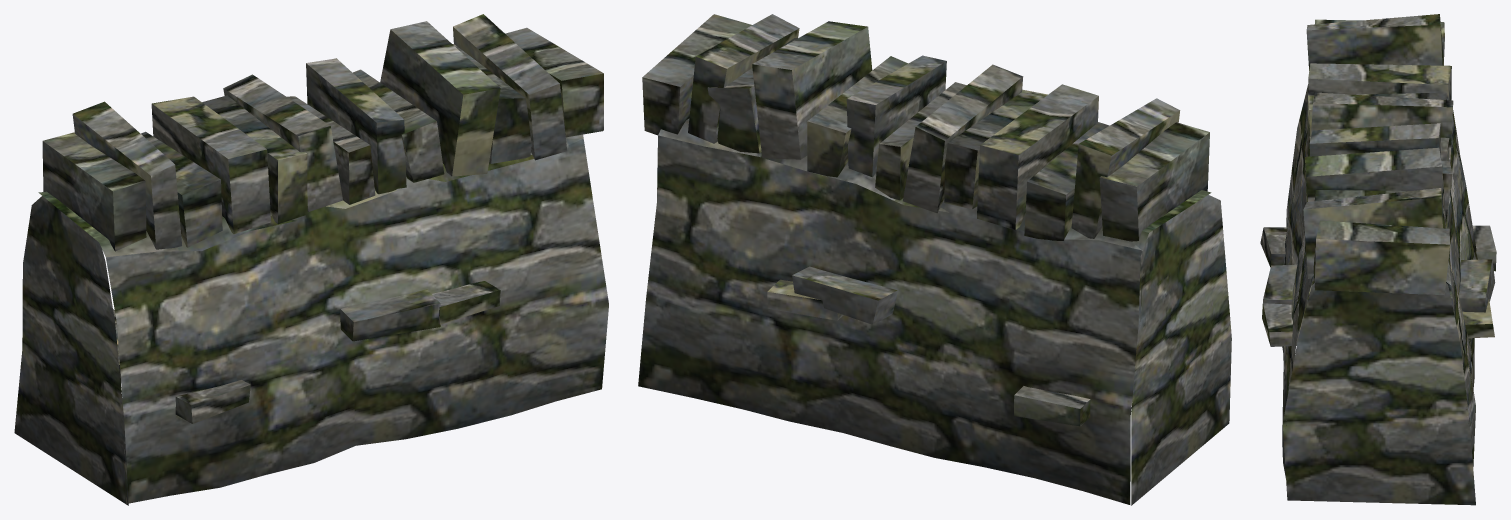
File: wall_drystone_straight_b.glb
3 views of the same model, side by side, from view 1: azimuth 30°, elevation 25°; view 2: azimuth 150°, elevation 25°; view 3: azimuth 270°, elevation 25° (orthographic). The views are drawn at different scales.
Parts seen in each view (by area): view 1: wall_drystone_straight_b; view 2: wall_drystone_straight_b; view 3: wall_drystone_straight_b.
Part boxes in pixels (x1,y1,x2,y2): wall_drystone_straight_b: (14, 14, 608, 505); wall_drystone_straight_b: (638, 14, 1231, 505); wall_drystone_straight_b: (1260, 14, 1496, 505).
Bounding box in the file's own units: 2.09 × 1.32 × 0.9392.
Materials: 1 (1 with a texture image).
